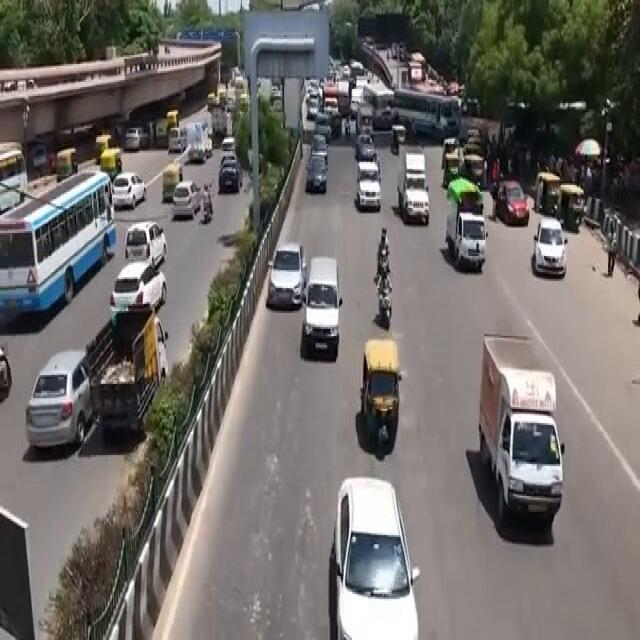three_wheeler: (355, 334, 405, 468)
